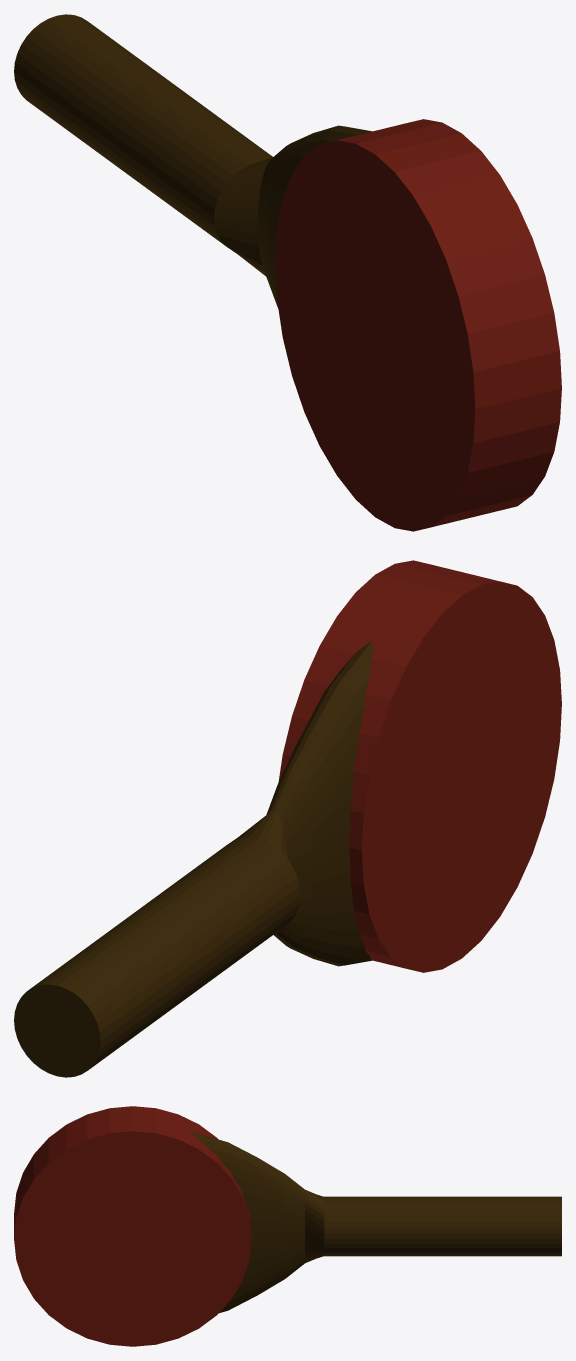
The model's file is tennis_bat.fbx.
3 views of the same model, one above another, from view 1: azimuth 30°, elevation 25°; view 2: azimuth 150°, elevation 25°; view 3: azimuth 270°, elevation 25° (orthographic). The views are drawn at different scales.
Parts seen in each view (by area): view 1: Cylinder, Cylinder.001; view 2: Cylinder, Cylinder.001; view 3: Cylinder, Cylinder.001.
Part boxes in pixels (x1,y1,x2,y2): Cylinder: [275, 119, 561, 531]; Cylinder.001: [14, 14, 372, 308]; Cylinder: [278, 560, 561, 972]; Cylinder.001: [14, 641, 372, 1077]; Cylinder: [14, 1106, 251, 1346]; Cylinder.001: [188, 1131, 561, 1312].
Size of the model in its own units: 2 by 8 by 18.43.
